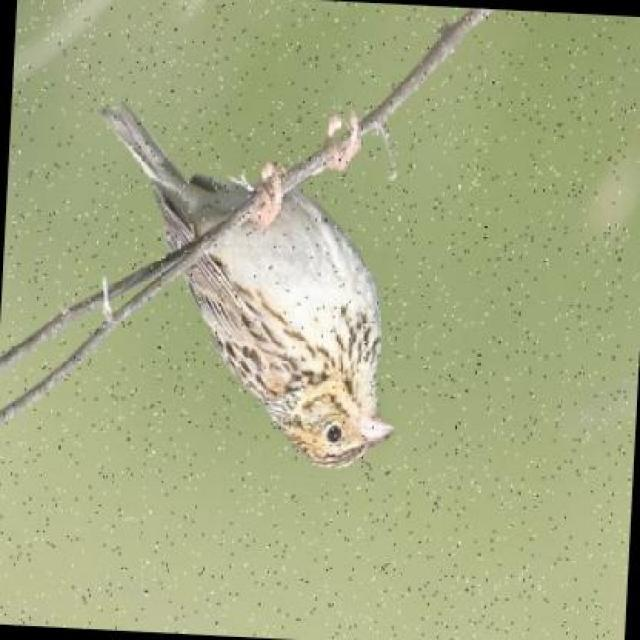Bird: (84, 84, 421, 456)
